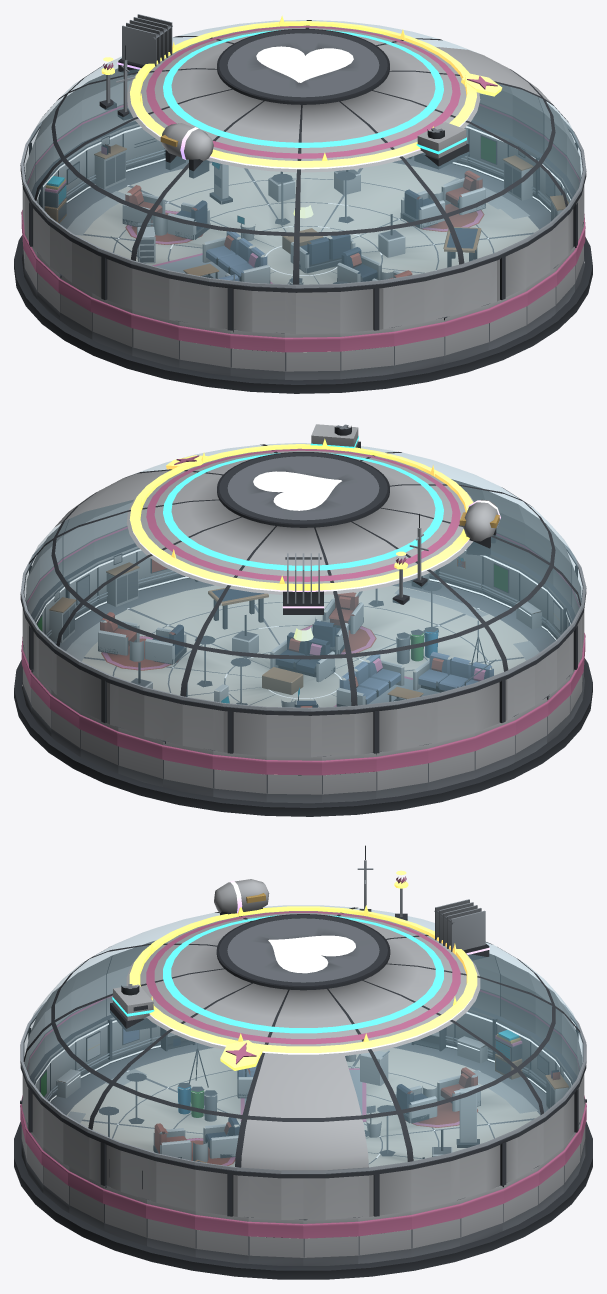
The model's file is lounge_m_far.glb.
The picture shows the model from 3 angles, top to bottom: view 1: azimuth 30°, elevation 25°; view 2: azimuth 150°, elevation 25°; view 3: azimuth 270°, elevation 25°; orthographic projection.
Parts seen in each view (by area): view 1: Roof, Base, Interior, L5, L3, L4, L2; view 2: Roof, Base, Interior, L5, L3, L4, L2; view 3: Roof, Base, Interior, L5, L3, L4, L2.
Part boxes in pixels (bbox=[...]): Roof: bbox=[20, 20, 586, 334]; Base: bbox=[14, 120, 592, 393]; Interior: bbox=[67, 162, 529, 284]; L5: bbox=[99, 15, 502, 167]; L3: bbox=[163, 30, 469, 169]; L4: bbox=[117, 14, 473, 178]; L2: bbox=[20, 45, 586, 288]; Roof: bbox=[20, 443, 586, 757]; Base: bbox=[14, 543, 592, 816]; Interior: bbox=[66, 582, 539, 707]; L5: bbox=[129, 438, 473, 604]; L3: bbox=[163, 424, 443, 570]; L4: bbox=[133, 499, 500, 614]; L2: bbox=[20, 514, 586, 711]; Roof: bbox=[20, 905, 586, 1219]; Base: bbox=[14, 1006, 592, 1279]; Interior: bbox=[68, 1043, 537, 1165]; L5: bbox=[129, 870, 477, 1070]; L3: bbox=[110, 915, 443, 1033]; L4: bbox=[149, 879, 489, 1054]; L2: bbox=[20, 845, 586, 1173].
Bounding box in the file's own units: 14.75 × 6.75 × 14.75.
